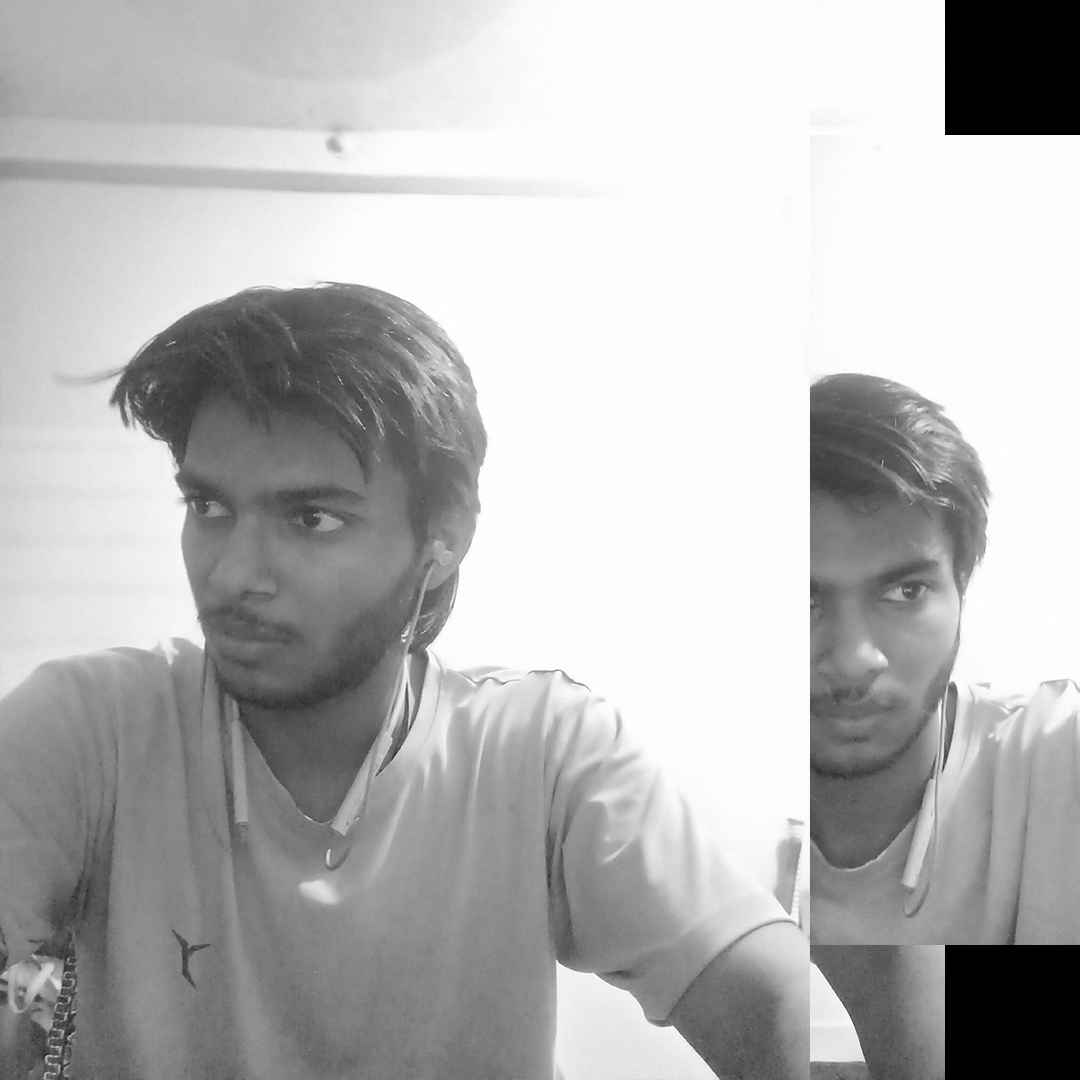distracted: (123, 252, 507, 728), (801, 440, 985, 795)
